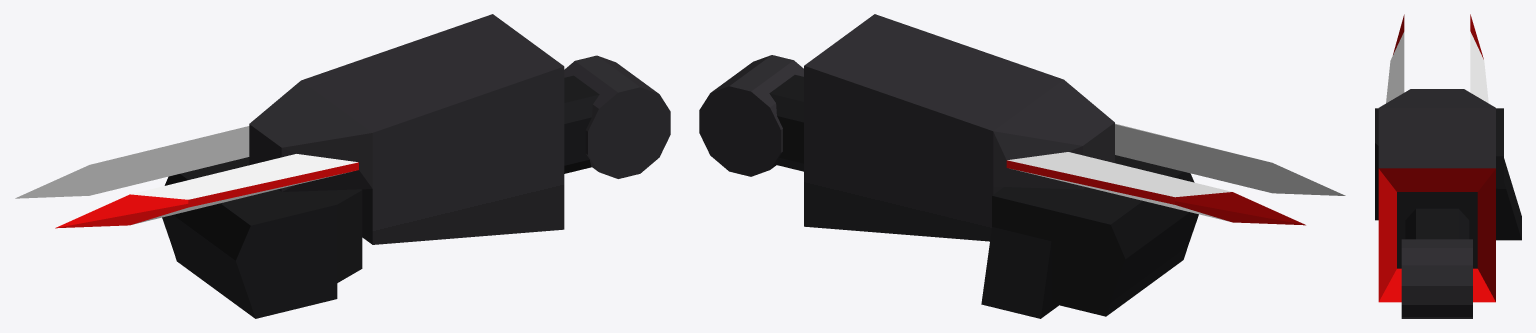
The model's file is VampLeftArm.obj.
The picture shows the model from 3 angles, left to right: view 1: azimuth 30°, elevation 25°; view 2: azimuth 150°, elevation 25°; view 3: azimuth 270°, elevation 25°; orthographic projection. The views are drawn at different scales.
Parts seen in each view (by area): view 1: Forearm, cuboid, cylinder, Arm; view 2: Forearm, cuboid, cylinder, Arm; view 3: Forearm, cylinder, cuboid, Arm.
Boxes of the visible parts, bbox=[...] form: Forearm: bbox=[15, 14, 564, 244]; cuboid: bbox=[162, 157, 362, 318]; cylinder: bbox=[564, 55, 670, 178]; Arm: bbox=[564, 75, 599, 173]; Forearm: bbox=[804, 14, 1345, 241]; cuboid: bbox=[981, 155, 1198, 318]; cylinder: bbox=[699, 55, 803, 176]; Arm: bbox=[769, 75, 803, 171]; Forearm: bbox=[1378, 14, 1495, 302]; cylinder: bbox=[1401, 239, 1472, 318]; cuboid: bbox=[1375, 108, 1521, 240]; Arm: bbox=[1405, 208, 1469, 239].
Bounding box in the file's own units: 1.02 × 0.2906 × 0.2578.
Materials: 1 (1 with a texture image).
